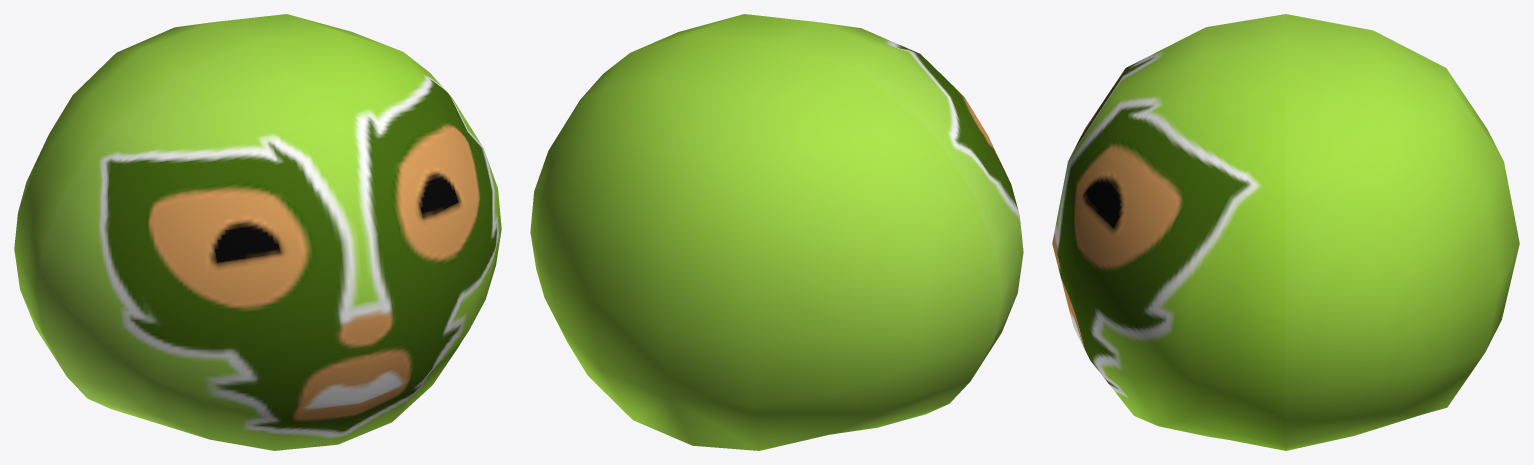
Rendered from SM_CM_Mask_006.fbx.
3 views of the same model, side by side, from view 1: azimuth 30°, elevation 25°; view 2: azimuth 150°, elevation 25°; view 3: azimuth 270°, elevation 25° (orthographic).
Parts seen in each view (by area): view 1: SM_CM_Mask_006; view 2: SM_CM_Mask_006; view 3: SM_CM_Mask_006.
Part boxes in pixels (x1=…): SM_CM_Mask_006: x1=14, y1=14, x2=501, y2=450; SM_CM_Mask_006: x1=530, y1=14, x2=1023, y2=450; SM_CM_Mask_006: x1=1052, y1=14, x2=1519, y2=450.
Bounding box in the file's own units: 69.96 × 52.64 × 63.44.
